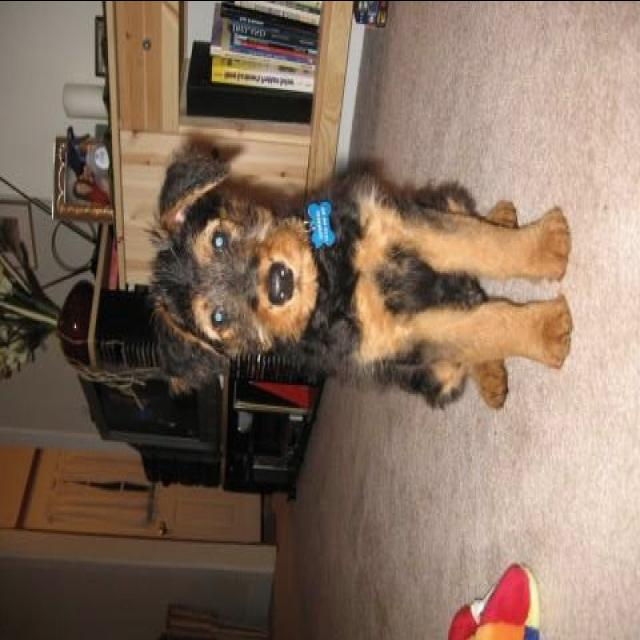airedale: (146, 144, 574, 409)
